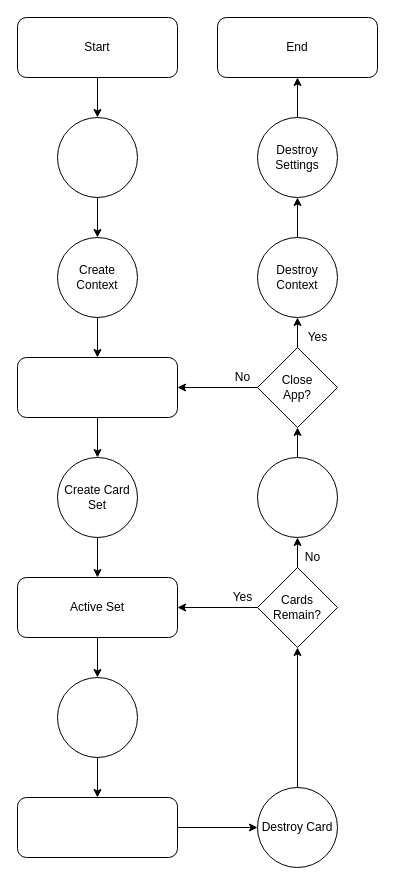
Image size: 395x885. Some labels were removed from this diagram. The shapes that lost their labels are listed below. From the top down, each one's centre as x and y in pixels, then its label:
the point at 97,157: Create Settings
the point at 97,387: Set List
the point at 297,497: Destroy Card Set
the point at 97,717: Create Card
the point at 97,827: Active Card
